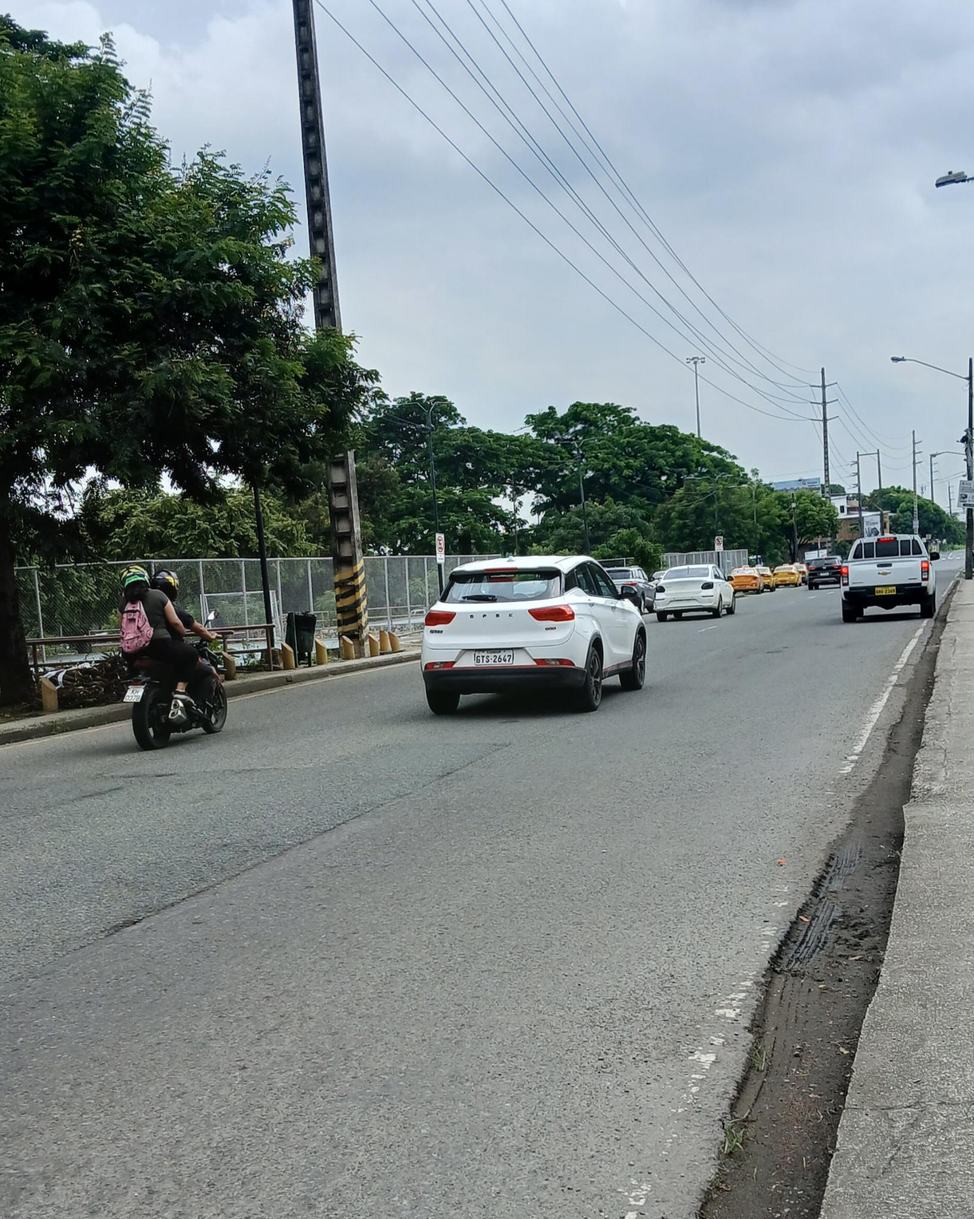license_plate: (471, 649, 515, 664), (122, 686, 145, 703), (875, 586, 896, 595)
